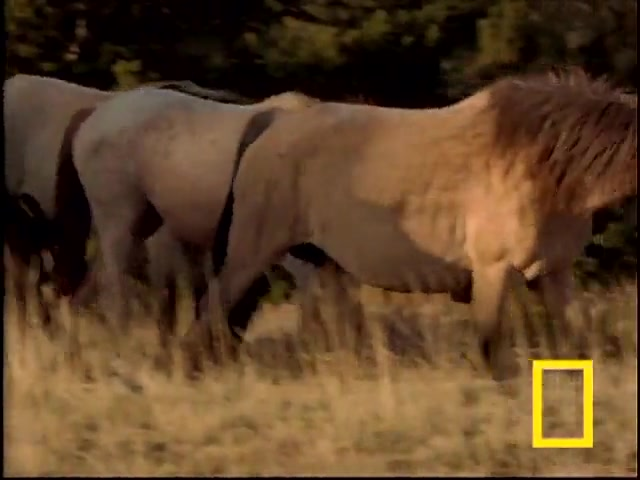horse: (192, 65, 640, 382)
